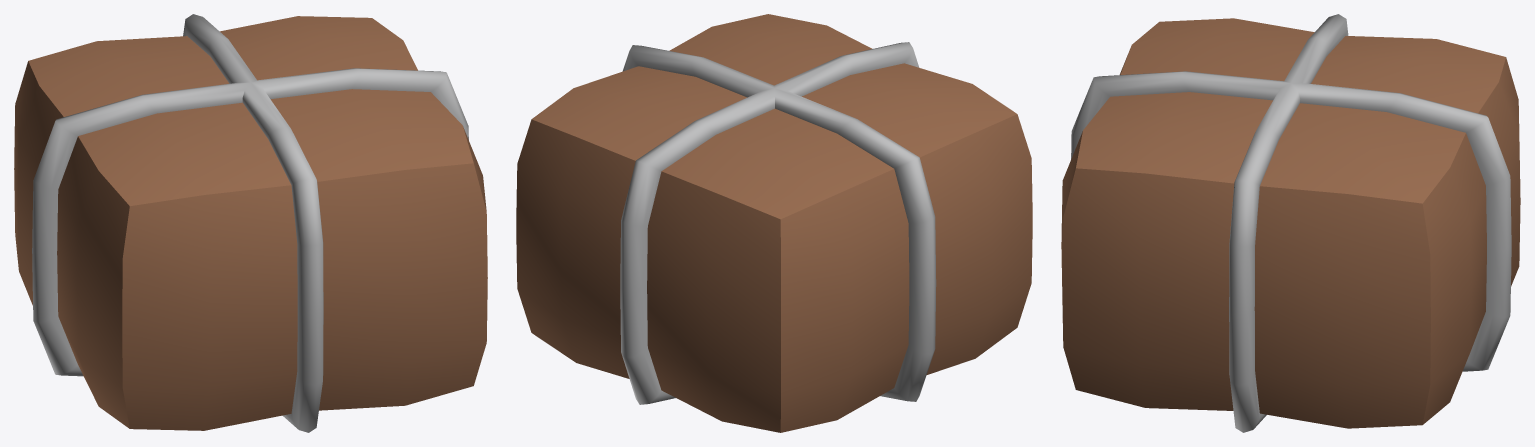
Rendered from decor_parcel.fbx.
3 renders of one model, left to right at view 1: azimuth 30°, elevation 25°; view 2: azimuth 150°, elevation 25°; view 3: azimuth 270°, elevation 25°, orthographic. The views are drawn at different scales.
Parts seen in each view (by area): view 1: decor_parcel; view 2: decor_parcel; view 3: decor_parcel.
Part boxes in pixels (box(x1,y1,x2,y2)): decor_parcel: box(14, 14, 487, 432); decor_parcel: box(516, 14, 1032, 432); decor_parcel: box(1061, 14, 1520, 432).
Bounding box in the file's own units: 0.6604 × 0.4466 × 0.6604.
